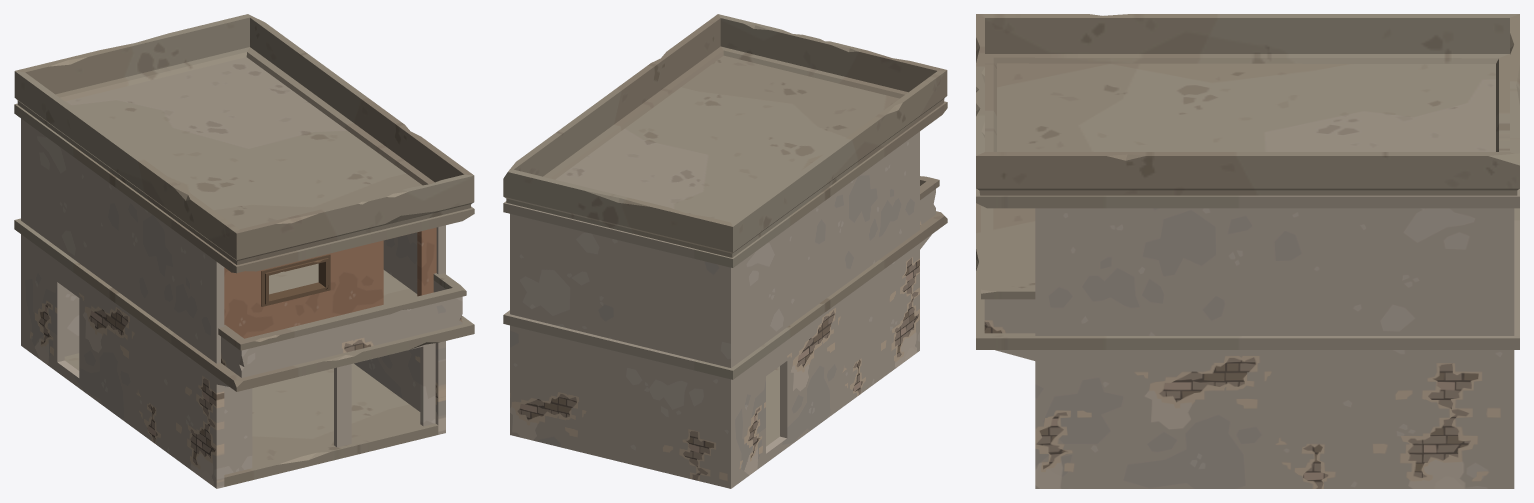
File: SM_Bld_Shop_10.fbx
3 renders of one model, left to right at view 1: azimuth 30°, elevation 25°; view 2: azimuth 150°, elevation 25°; view 3: azimuth 270°, elevation 25°, orthographic. The views are drawn at different scales.
Visible parts, largest first — view 1: SM_Bld_Shop_10; view 2: SM_Bld_Shop_10; view 3: SM_Bld_Shop_10.
Part boxes in pixels (x1=…): SM_Bld_Shop_10: x1=14, y1=14, x2=474, y2=488; SM_Bld_Shop_10: x1=503, y1=14, x2=947, y2=488; SM_Bld_Shop_10: x1=976, y1=14, x2=1519, y2=488.
Size of the model in its own units: 702 by 773 by 1136.
